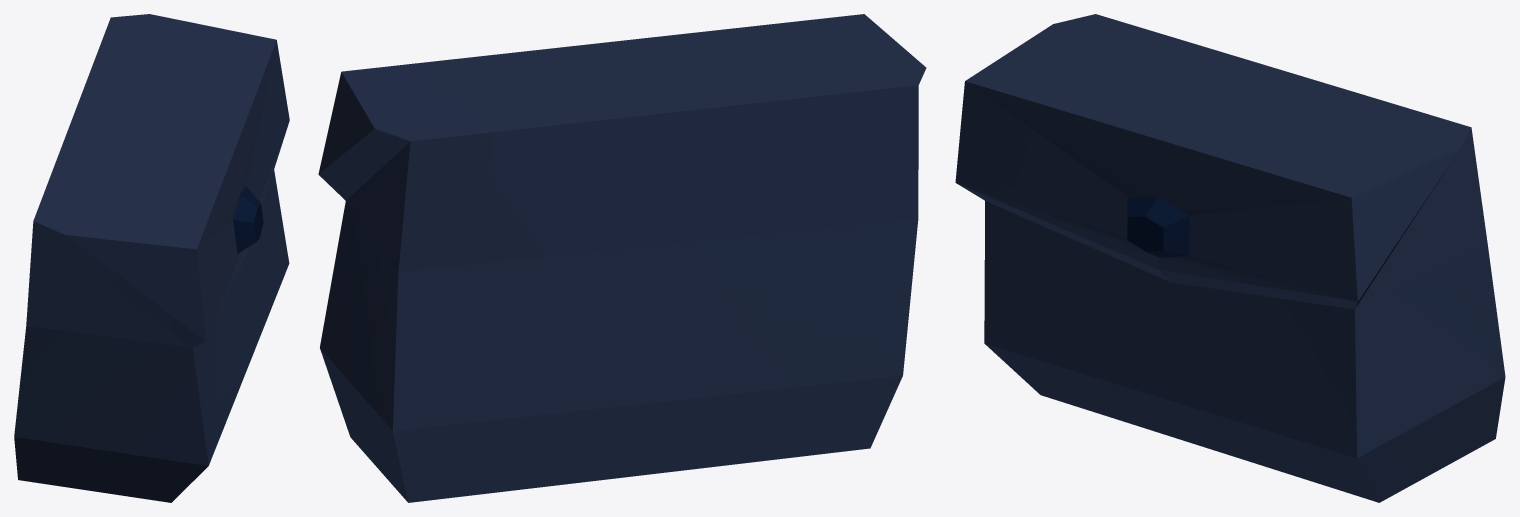
The model's file is SM_Item_Bag_Attachment_03.glb.
The picture shows the model from 3 angles, left to right: view 1: azimuth 30°, elevation 25°; view 2: azimuth 150°, elevation 25°; view 3: azimuth 270°, elevation 25°; orthographic projection. The views are drawn at different scales.
Parts seen in each view (by area): view 1: SM_Item_Bag_Attachment_03; view 2: SM_Item_Bag_Attachment_03; view 3: SM_Item_Bag_Attachment_03.
Boxes of the visible parts, left/top/right/bottom form: SM_Item_Bag_Attachment_03: left=14, top=14, right=289, bottom=502; SM_Item_Bag_Attachment_03: left=318, top=14, right=926, bottom=502; SM_Item_Bag_Attachment_03: left=955, top=14, right=1505, bottom=502.
Size of the model in its own units: 0.1504 by 0.1173 by 0.1717.
